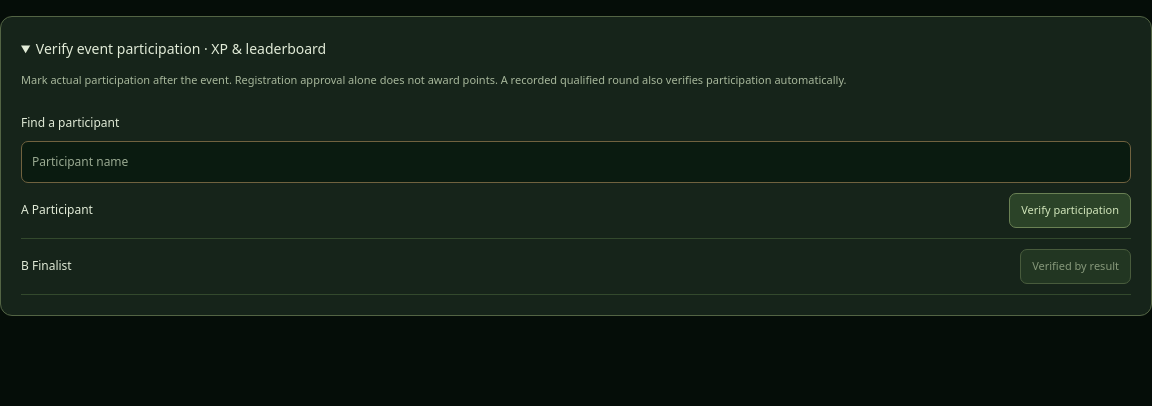
shows a failed verification without pretending the participant earned points
Click the button "Verify participation".
click(1070, 211)  # box [1009, 193, 1131, 228]
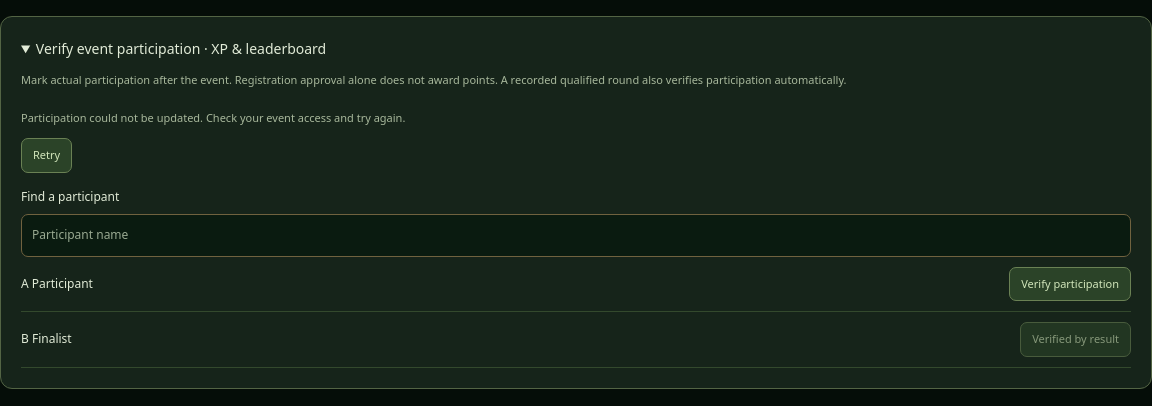
Expected: the button "Verify participation" is shown, [1009, 267, 1131, 301]
Now the message shows "Check your event access", box [21, 110, 405, 126]
